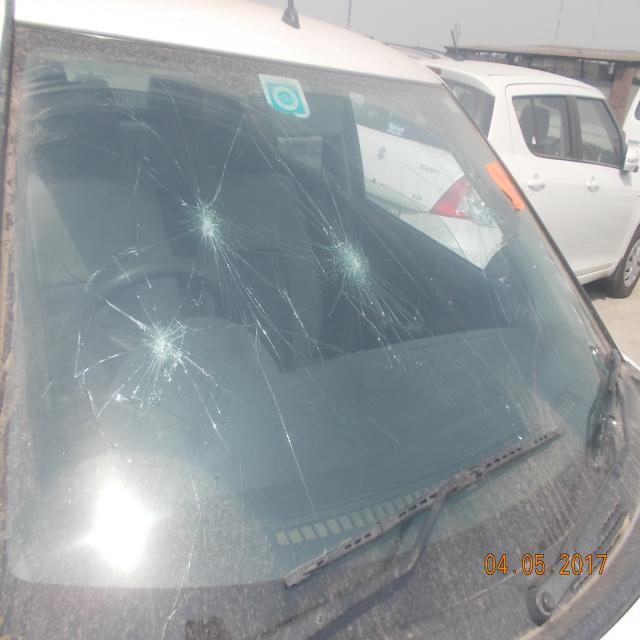Glass_Break: (123, 305, 195, 394), (318, 225, 387, 303), (444, 175, 512, 244), (181, 177, 232, 262)
